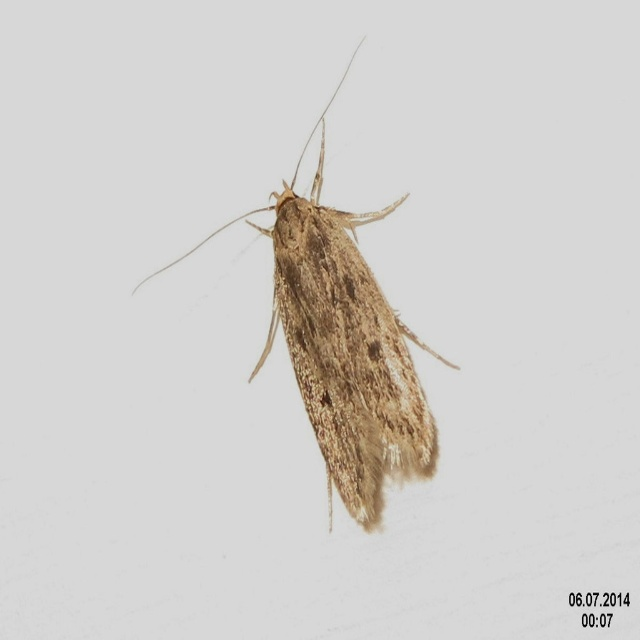Moths and butterflies: (132, 31, 463, 536)
